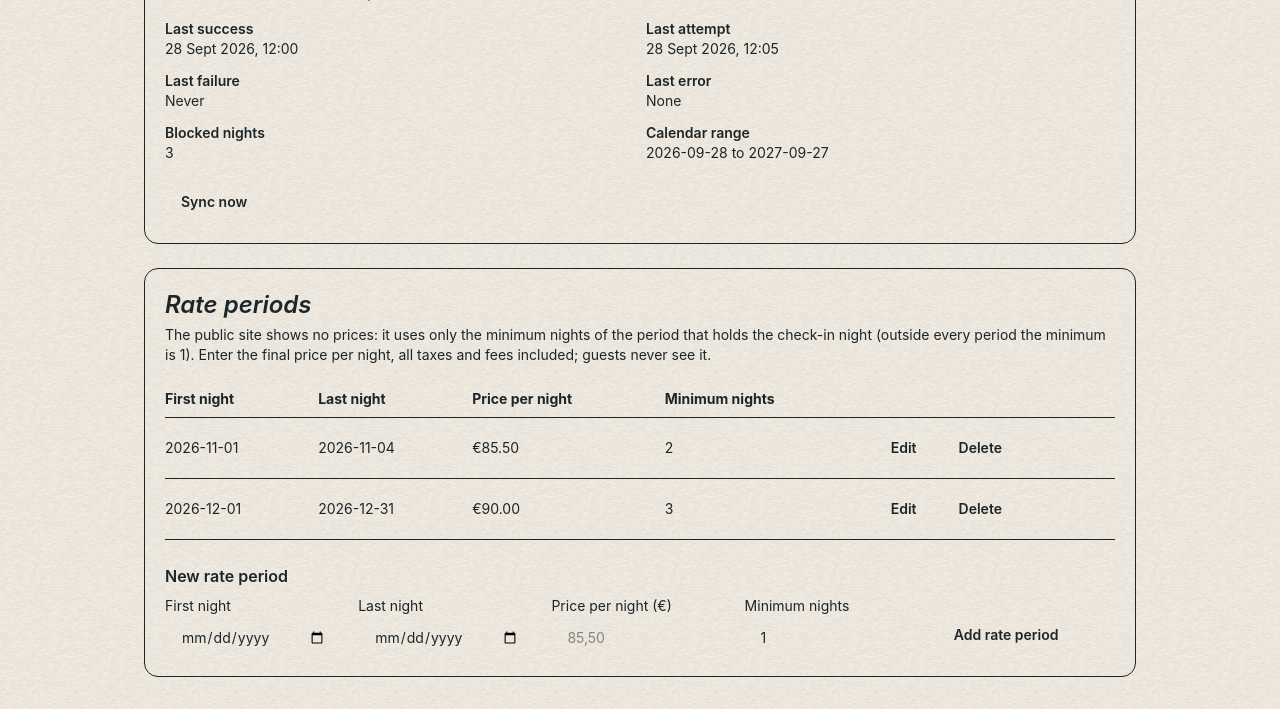
Test: admin availability & prices › rate periods › shows the overlap message of the API
This screenshot has width=1280, height=709.
(page scrolled)
Expected: the table named "Rate periods" is shown, [165, 381, 1115, 540]
Type "2026-11-03" into the date field labelled "First night" at (254, 638), box [165, 620, 342, 656]
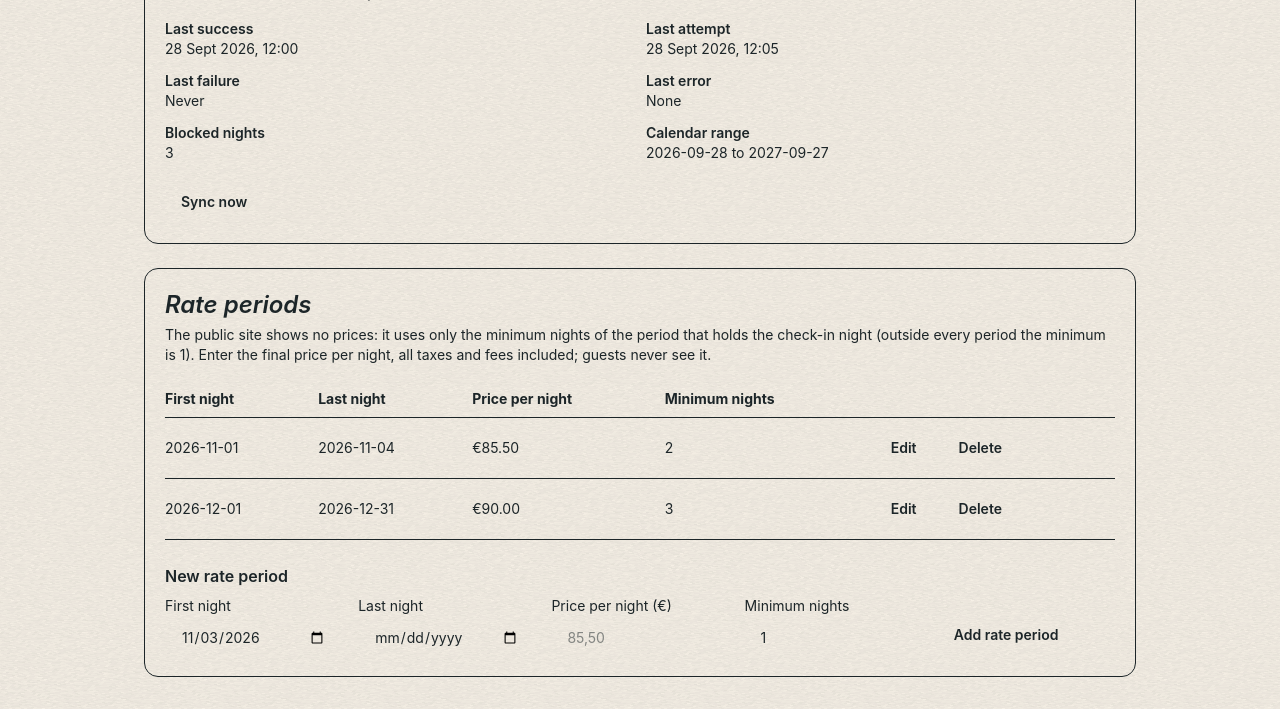
Type "2026-11-10" into the date field labelled "Last night" at (447, 638), box [358, 620, 535, 656]
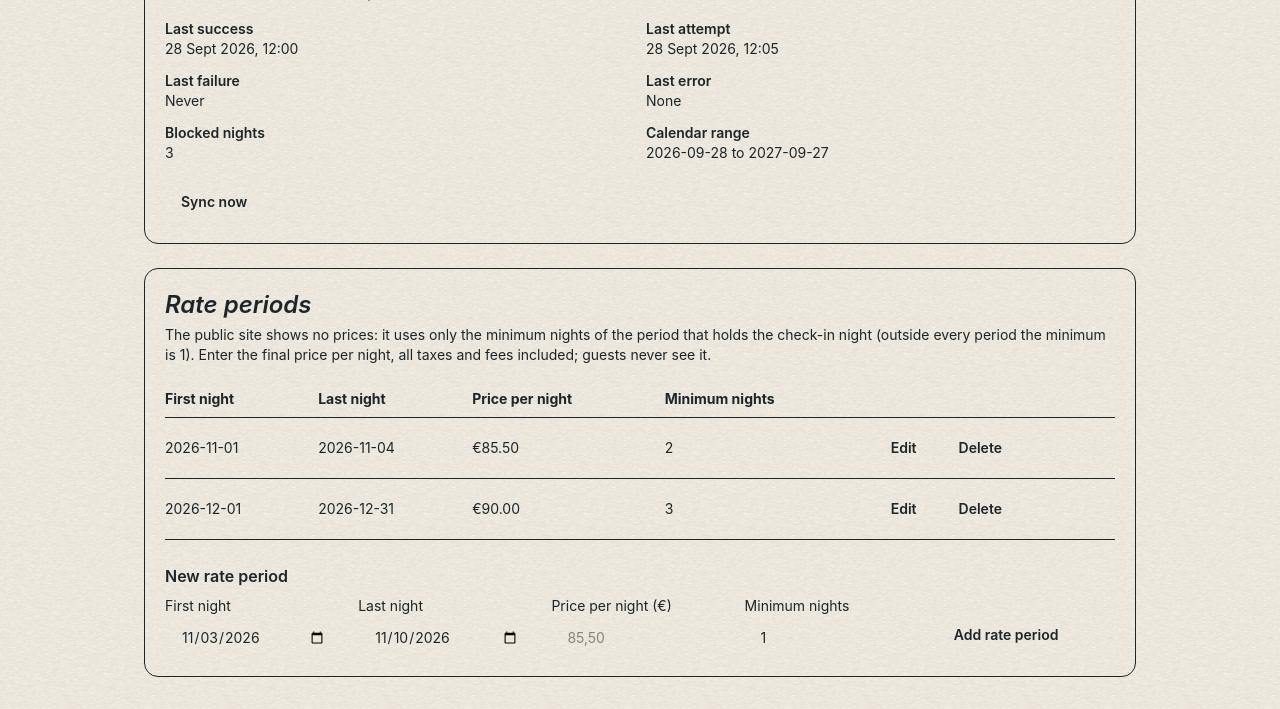
Type "85" into the field labelled "Price per night (€)" at (640, 638), box [551, 620, 729, 656]
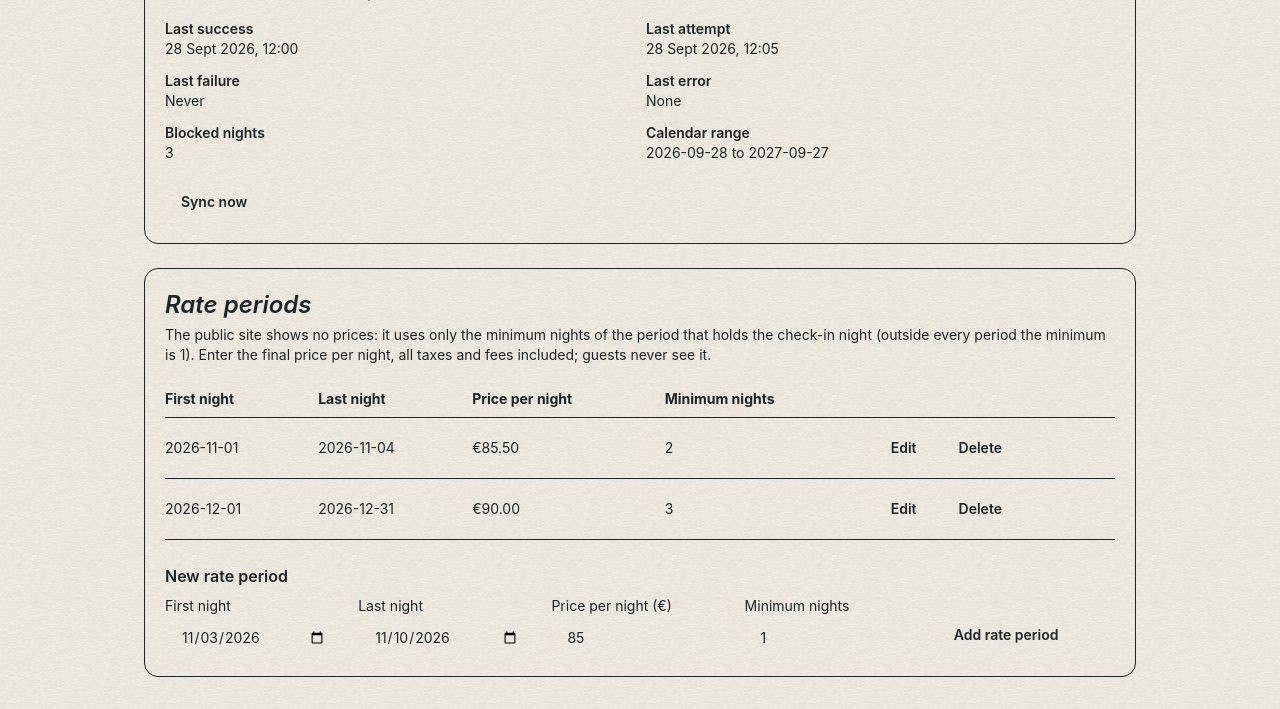
Replace the text in the number field labelled "Minimum nights" with "2" at (833, 638), box [745, 620, 922, 656]
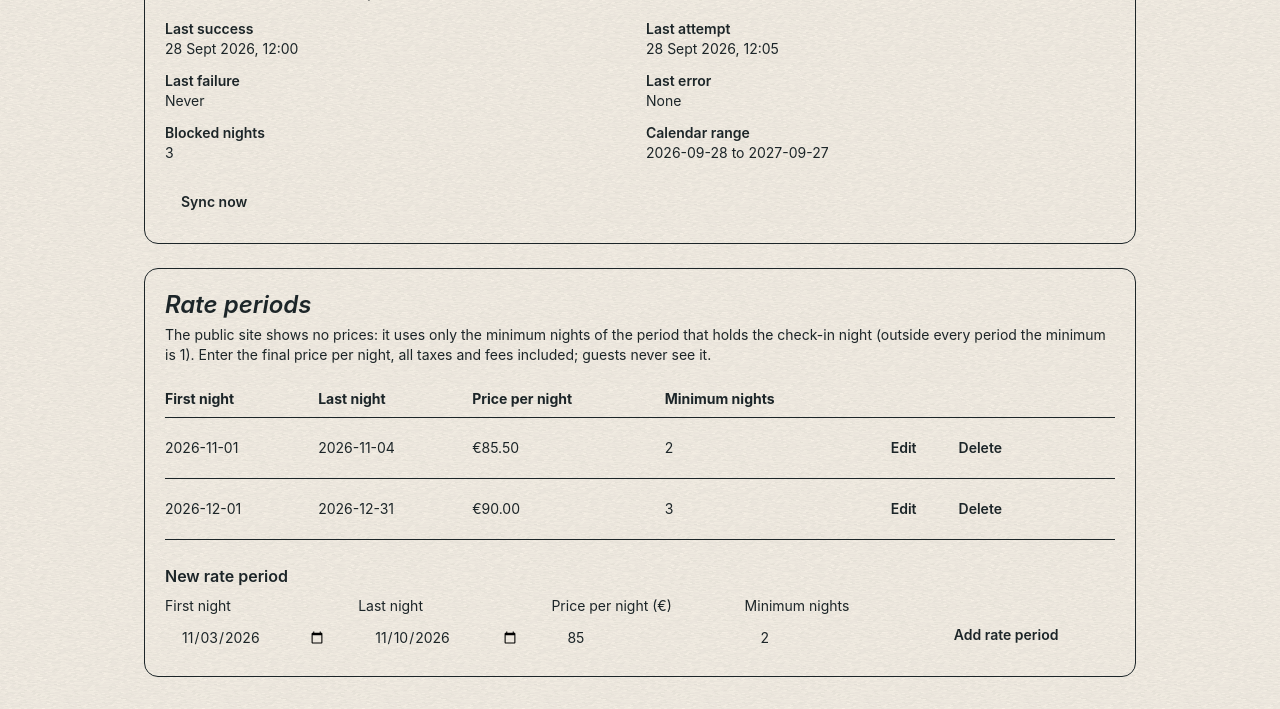
Click the button "Add rate period" at (1006, 634), box [938, 612, 1074, 656]
(page scrolled)
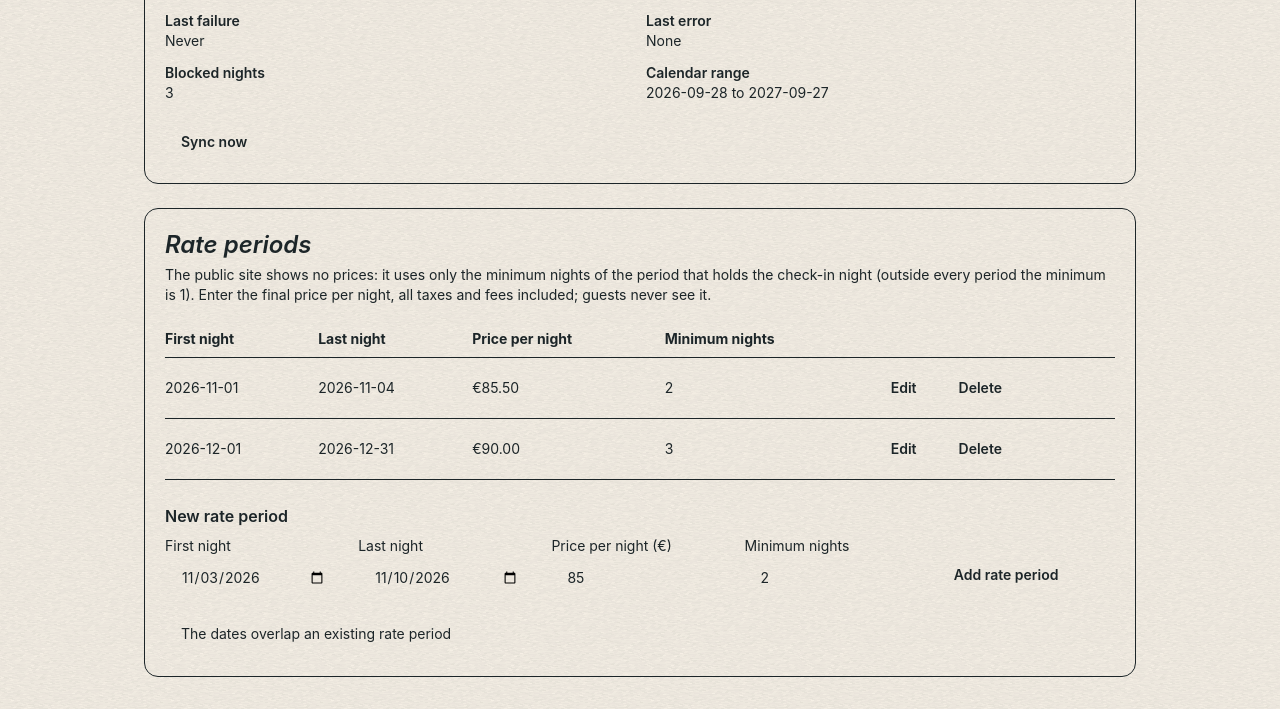
Expected: the message reads "The dates overlap an existing rate period", [181, 625, 451, 642]
